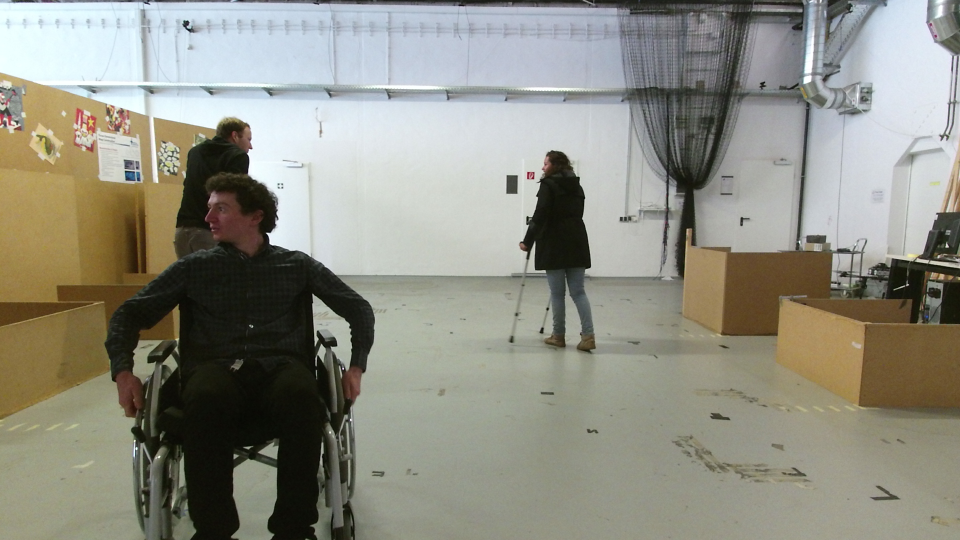crutches: (498, 139, 605, 354)
wheelchair: (100, 170, 376, 540)
